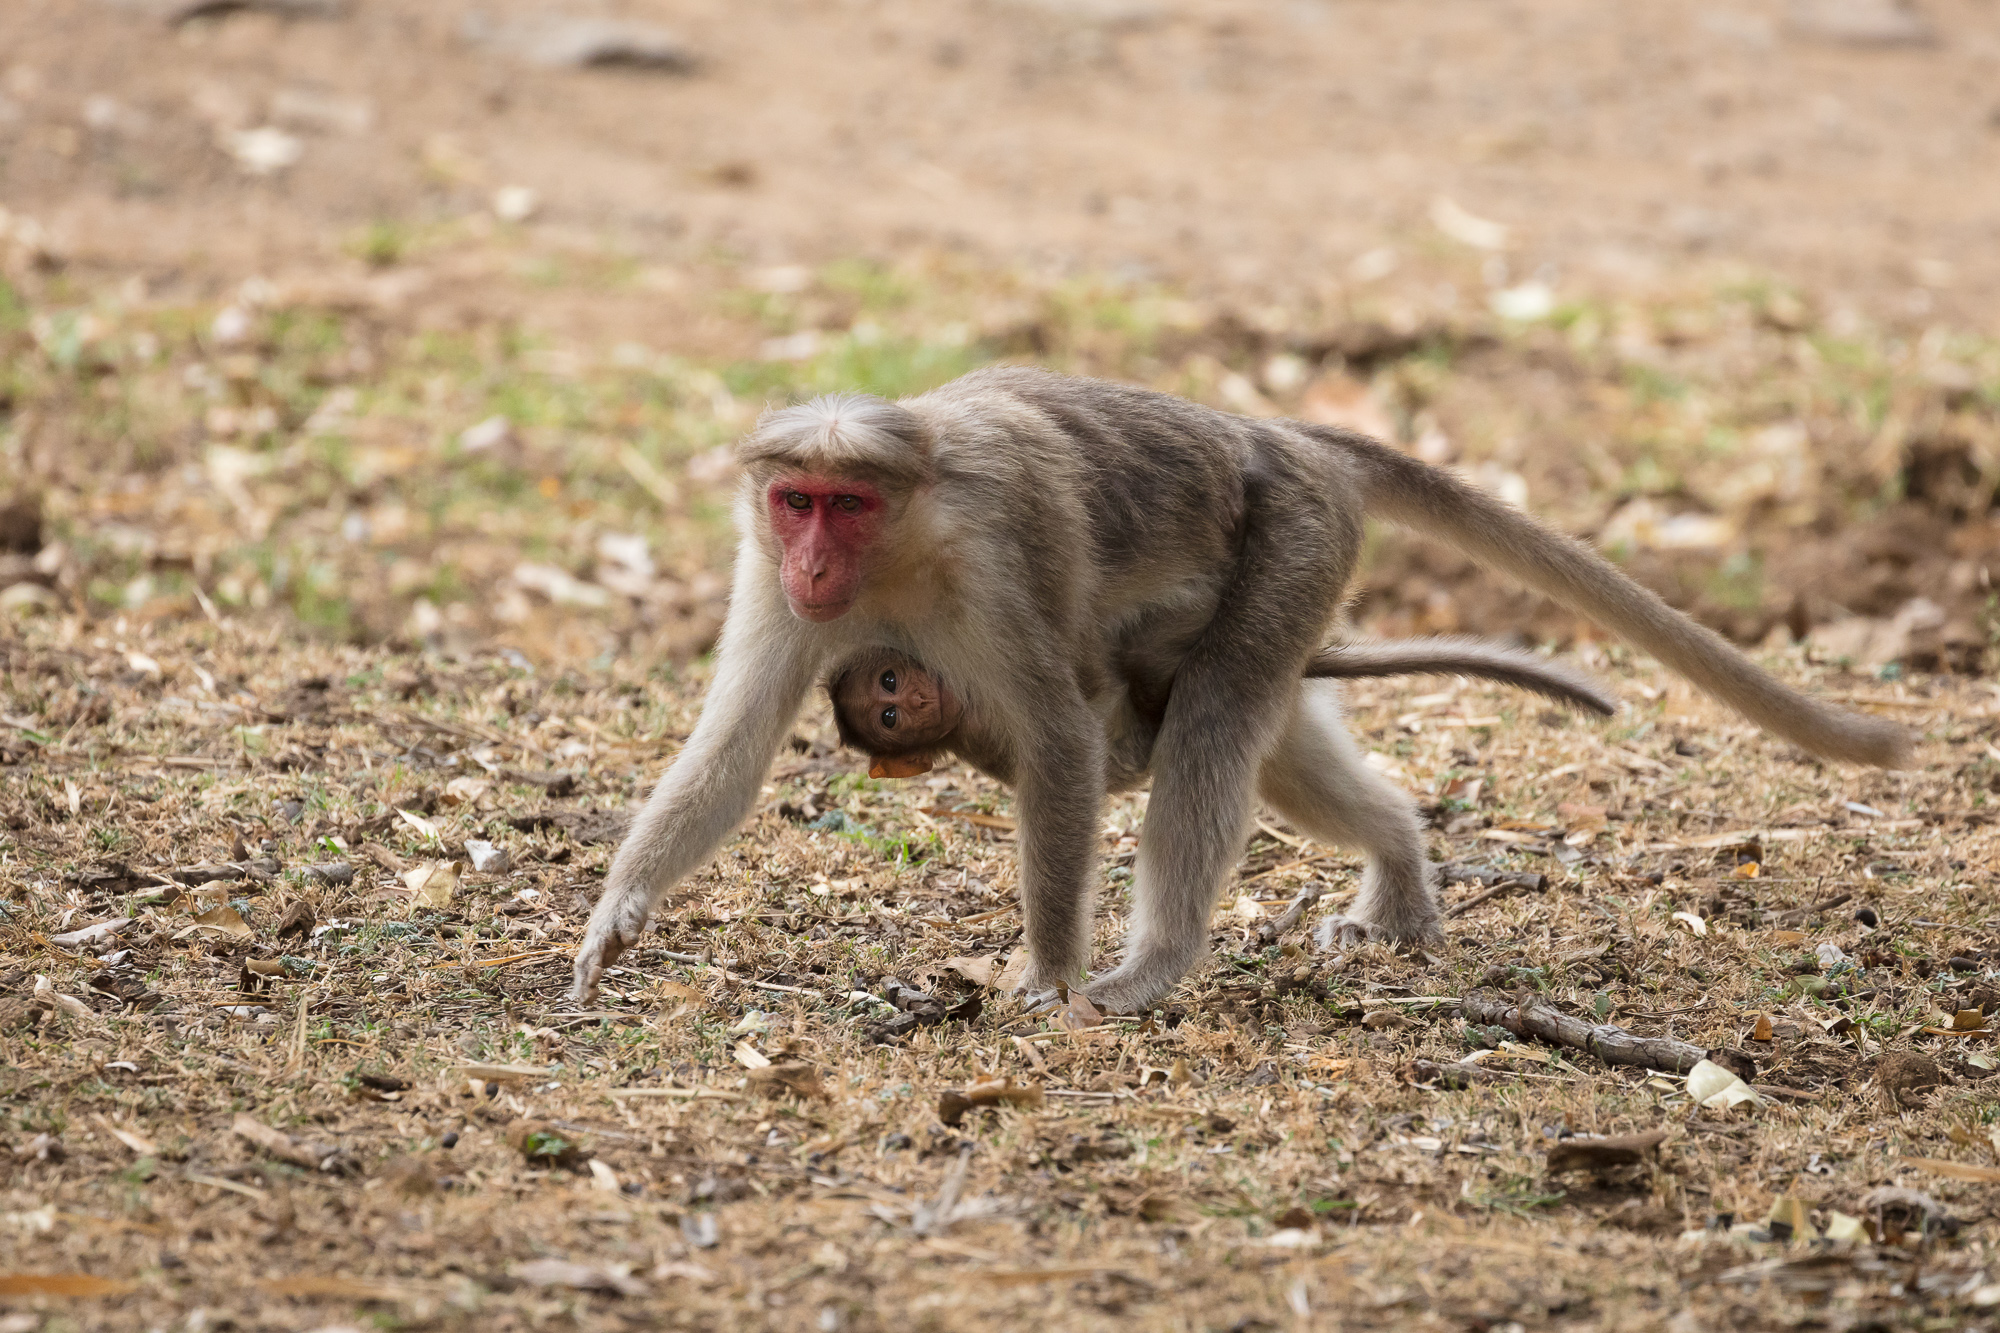monkey: (561, 357, 1894, 1044), (821, 632, 1621, 781)
